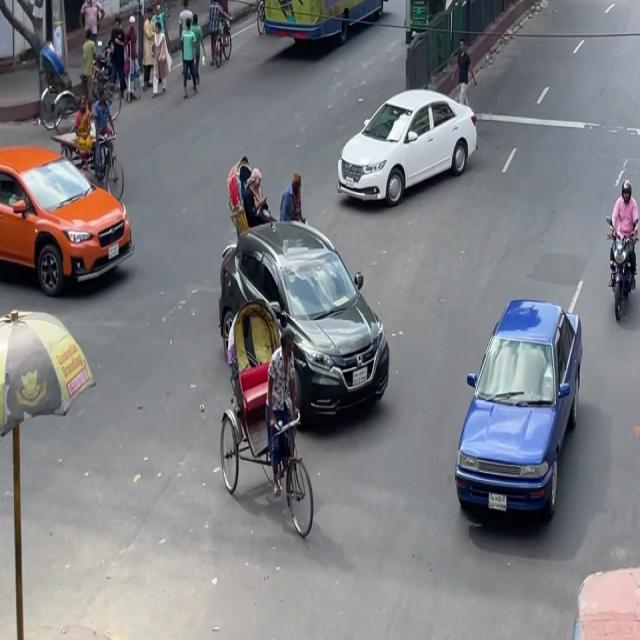bicycle: (207, 11, 239, 70)
bus: (258, 0, 397, 48)
car: (210, 207, 400, 438), (445, 275, 597, 538), (329, 64, 483, 220), (0, 137, 137, 310)
motorbike: (598, 161, 640, 332)
